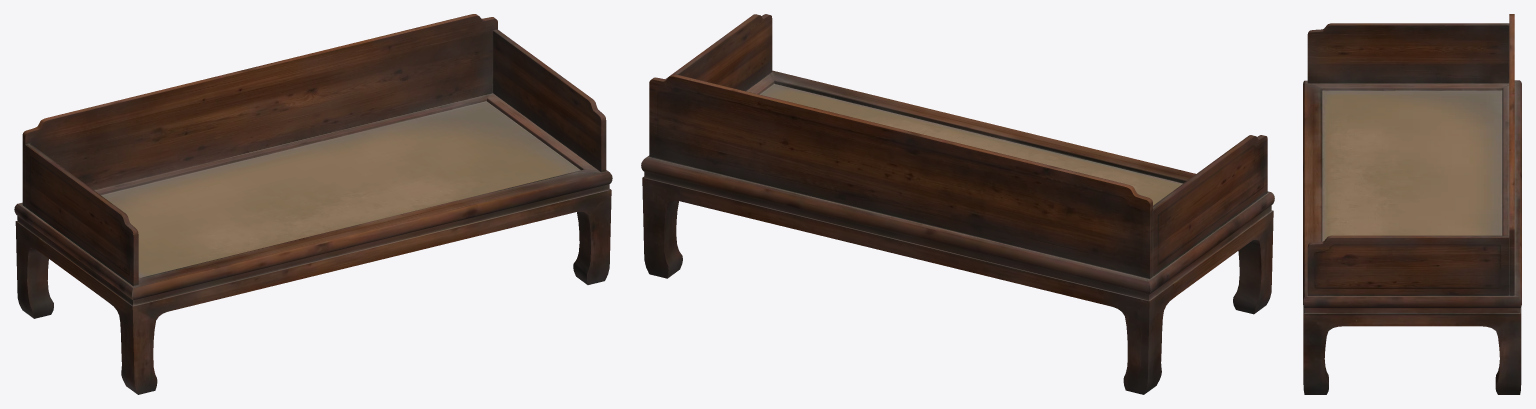
Rendered from chinese_sofa.glb.
3 renders of one model, left to right at view 1: azimuth 30°, elevation 25°; view 2: azimuth 150°, elevation 25°; view 3: azimuth 270°, elevation 25°, orthographic. The views are drawn at different scales.
Visible parts, largest first — view 1: chinese_sofa; view 2: chinese_sofa; view 3: chinese_sofa.
Part boxes in pixels (x1,y1,x2,y2): chinese_sofa: (14, 14, 612, 394); chinese_sofa: (641, 14, 1274, 394); chinese_sofa: (1303, 14, 1521, 394).
Bounding box in the file's own units: 2.29 × 0.86 × 0.9689.
Materials: 1 (1 with a texture image).
